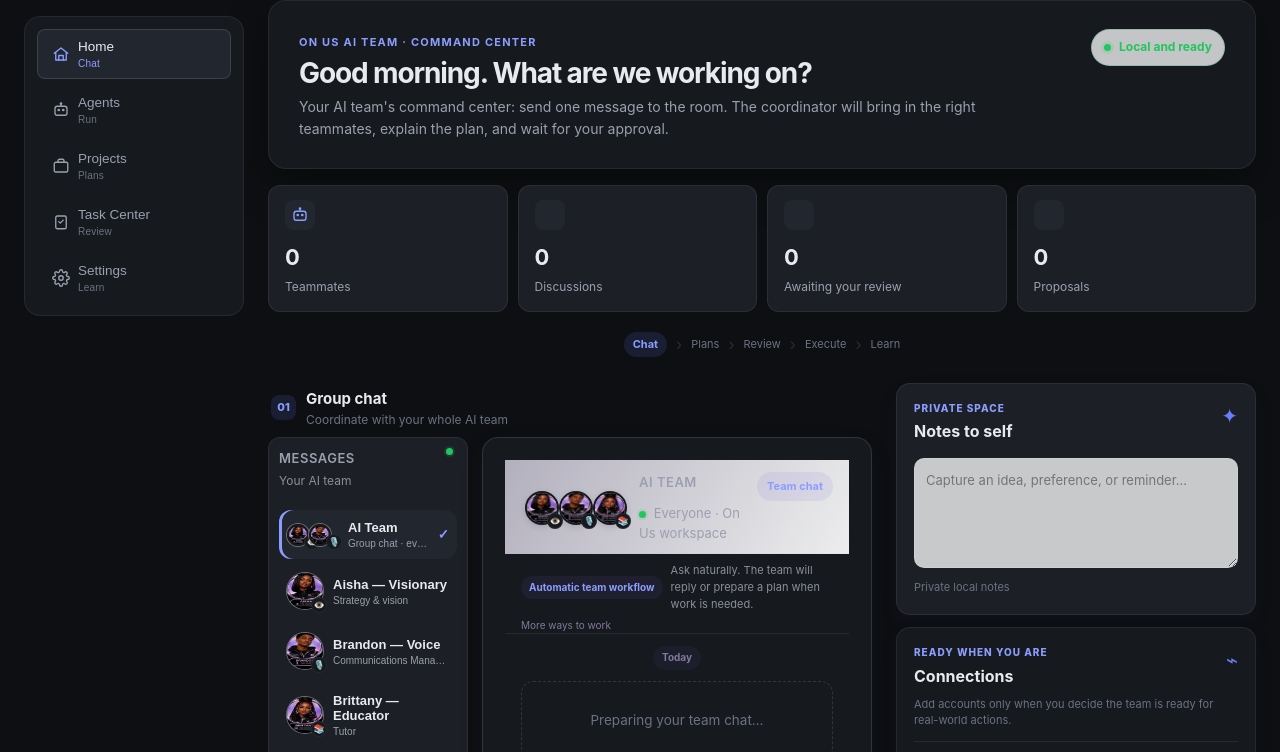
Test case: Live Activity › shows error on failure
Click the button "Home Chat": (134, 54) [37, 29, 231, 79]
(page scrolled)
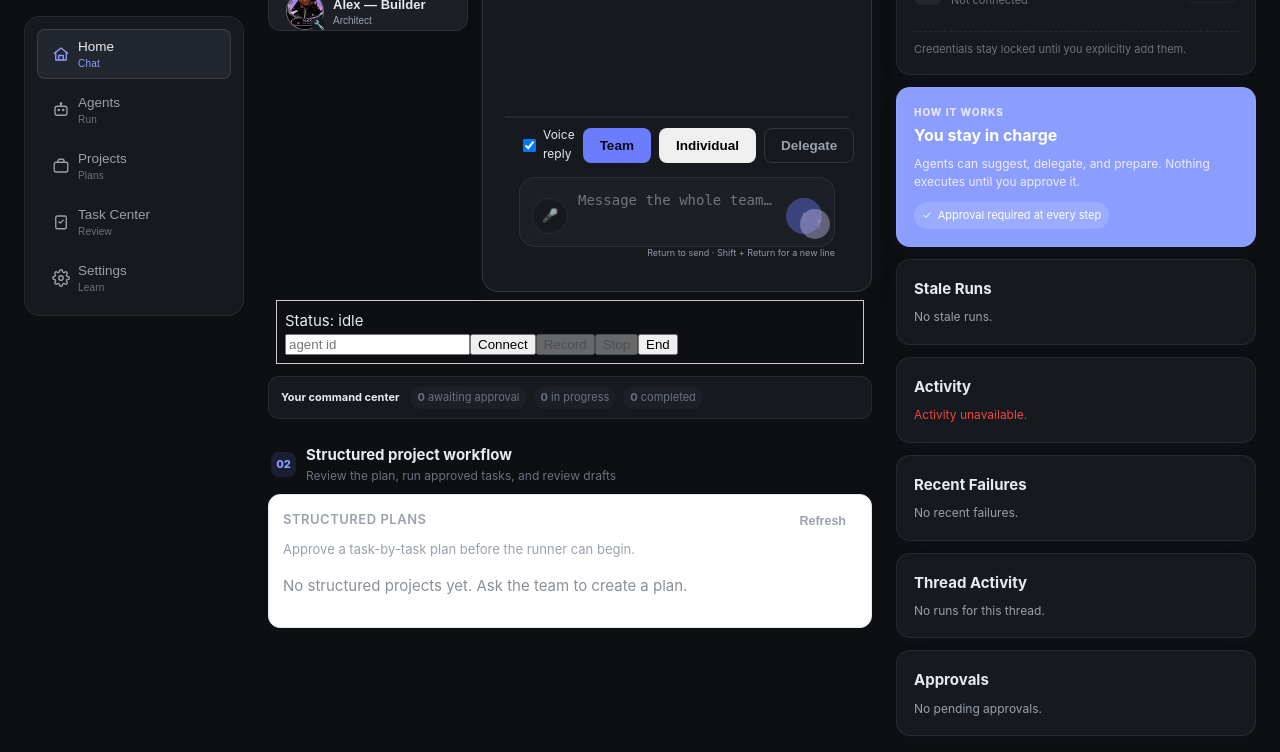
expect the text "Activity unavailable." is shown: met, box [914, 407, 1027, 422]
